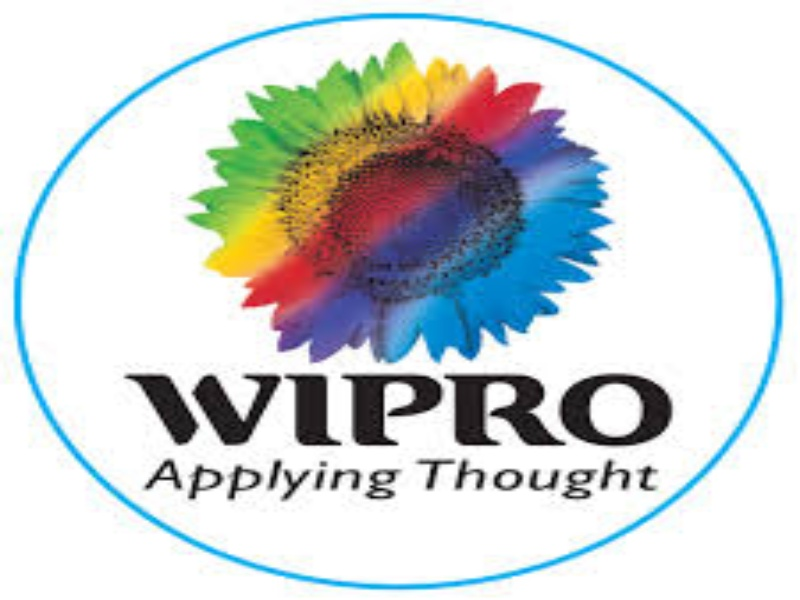wipro: (184, 38, 621, 361)
